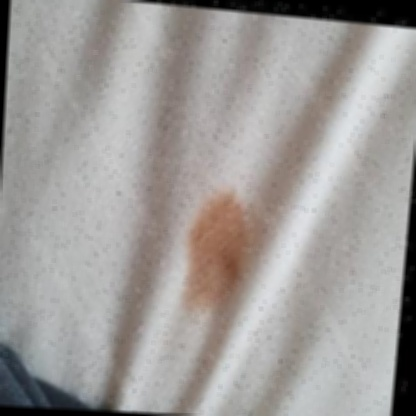kimchi: (174, 193, 263, 318)
